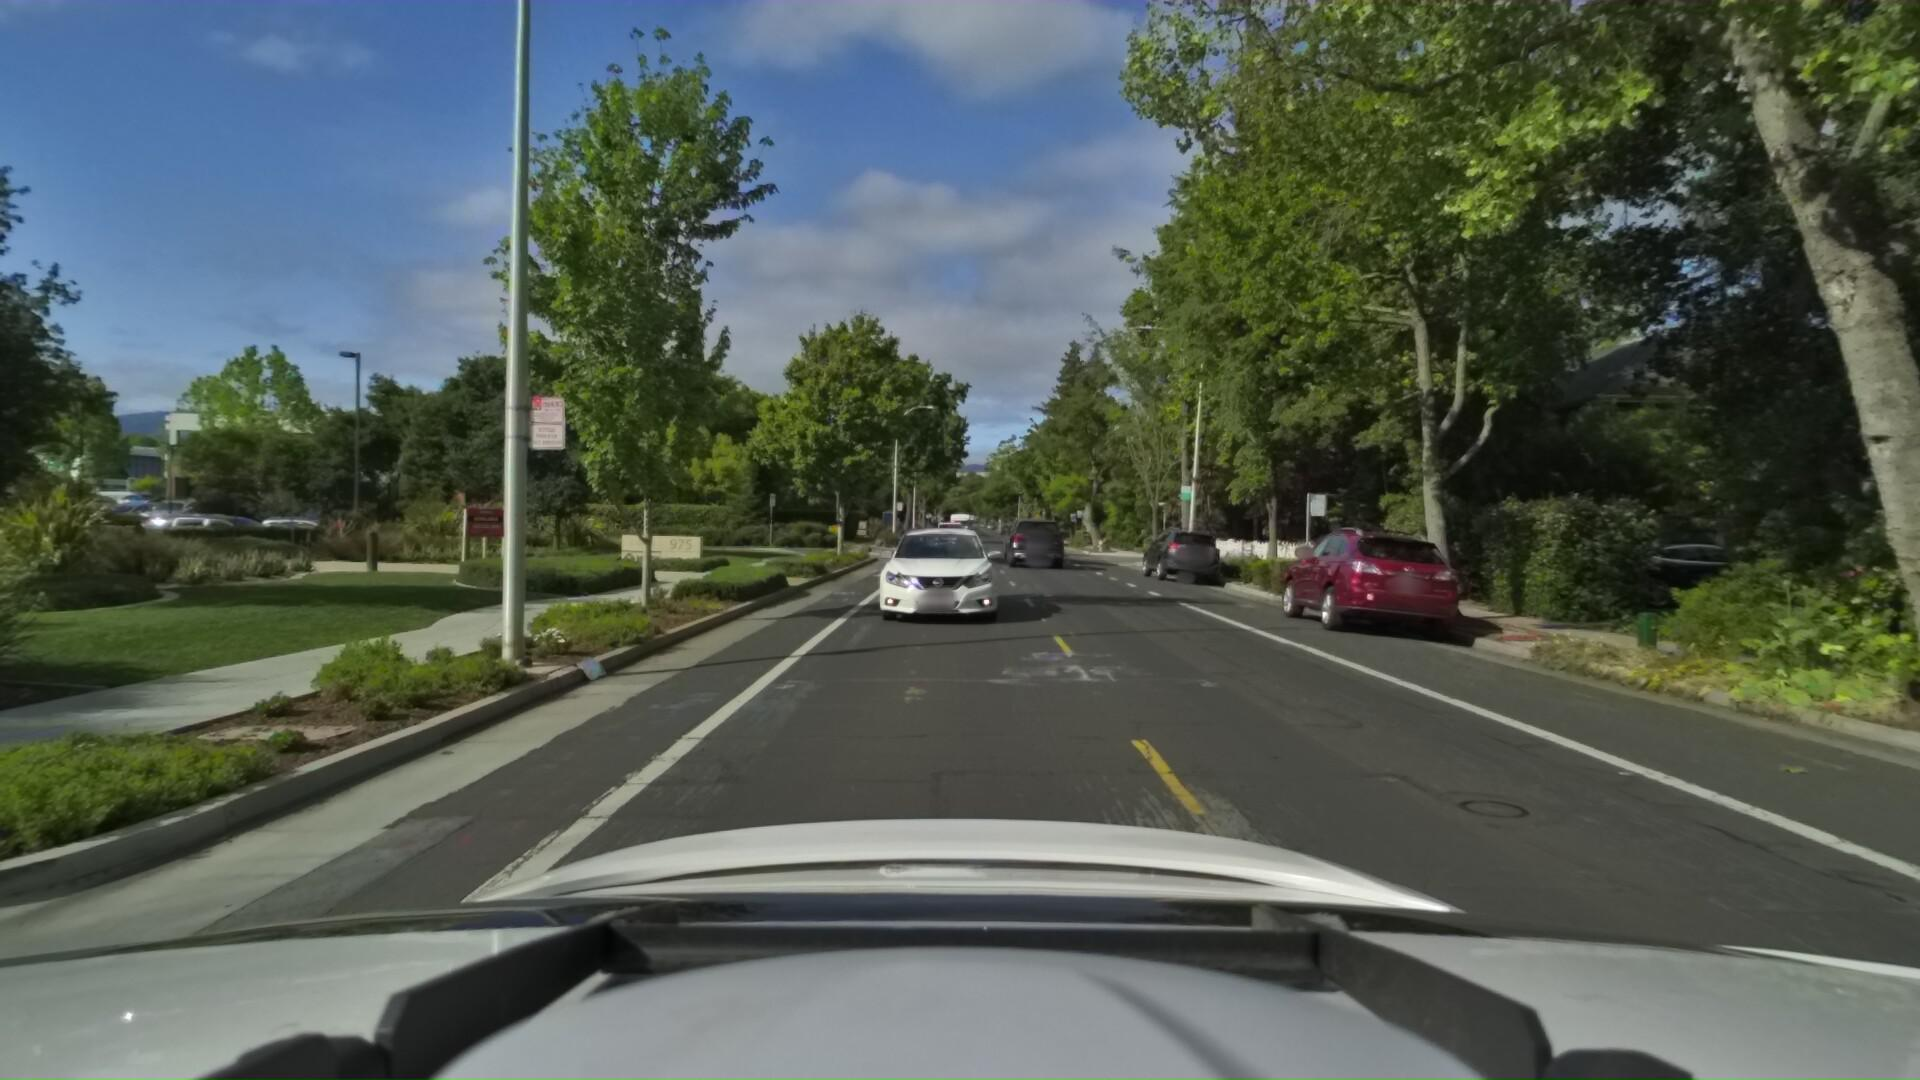car: (1263, 525, 1451, 644), (1539, 535, 1803, 611), (858, 521, 1004, 636), (1131, 524, 1216, 585), (1000, 513, 1062, 568), (930, 516, 964, 547)
